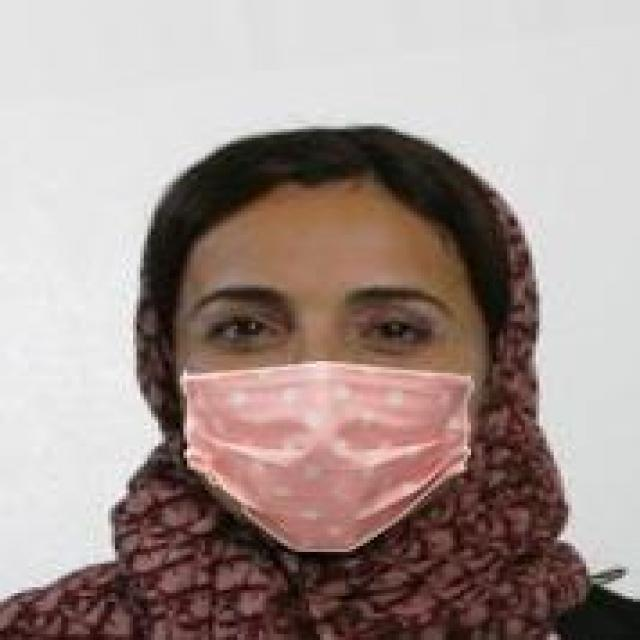mask: (130, 123, 540, 564)
